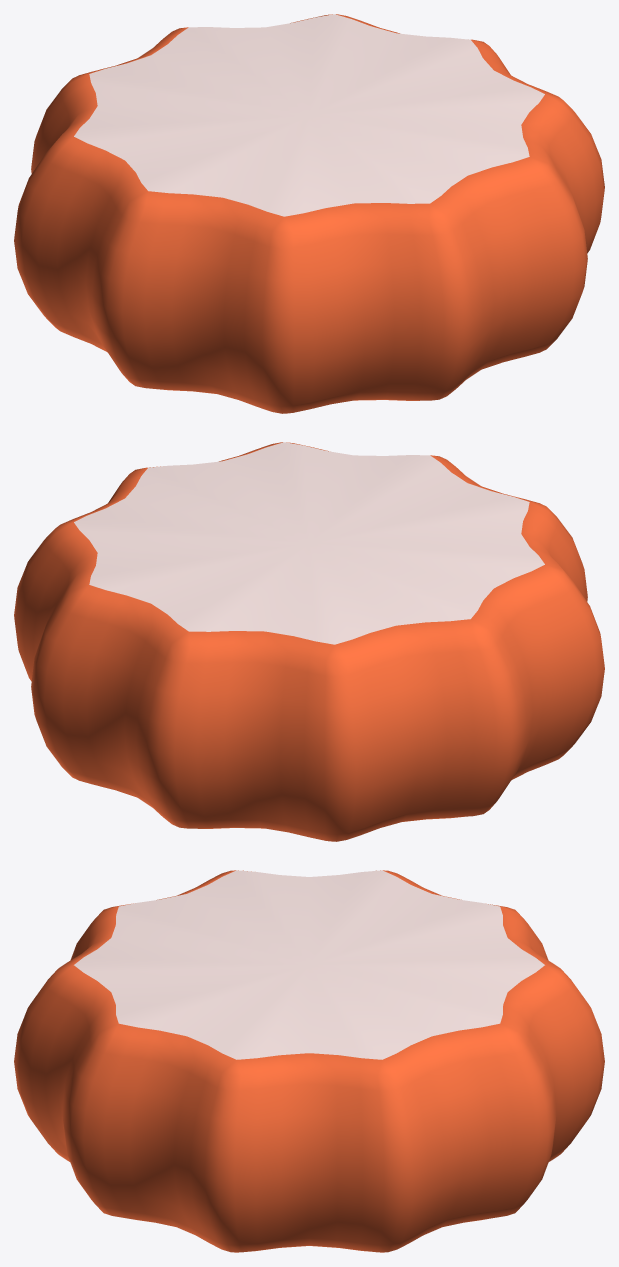
The model's file is Town_16_Bean_Bag_Chair_2.glb.
The picture shows the model from 3 angles, top to bottom: view 1: azimuth 30°, elevation 25°; view 2: azimuth 150°, elevation 25°; view 3: azimuth 270°, elevation 25°; orthographic projection. The views are drawn at different scales.
Visible parts, largest first — view 1: Town_16_Bean_Bag_Chair_2; view 2: Town_16_Bean_Bag_Chair_2; view 3: Town_16_Bean_Bag_Chair_2.
Boxes of the visible parts, <box> form: Town_16_Bean_Bag_Chair_2: <box>14,14,604,413</box>; Town_16_Bean_Bag_Chair_2: <box>14,442,604,841</box>; Town_16_Bean_Bag_Chair_2: <box>14,870,604,1252</box>.
Size of the model in its own units: 0.9442 by 0.3565 by 0.9905.
1 material, 1 textured.
